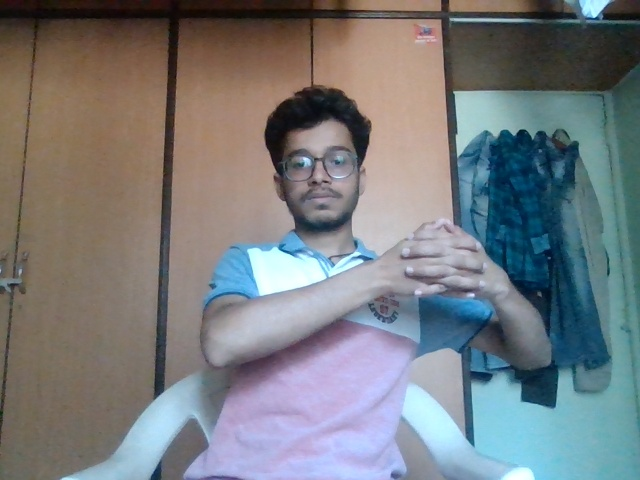good: (387, 215, 501, 308)
